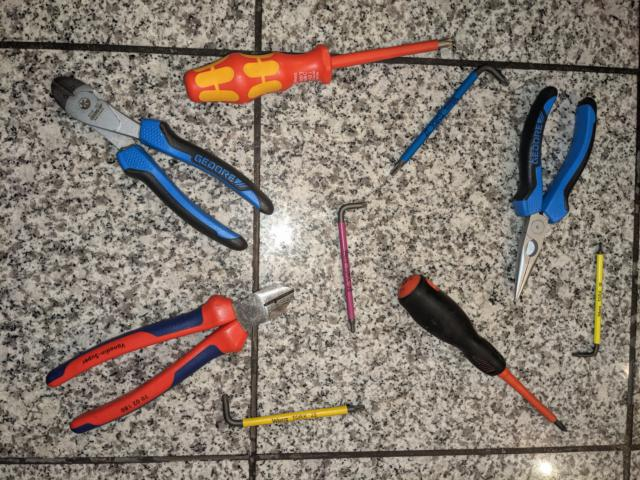Inbusschlüssel: (388, 63, 513, 179), (218, 391, 369, 431), (567, 238, 612, 361), (332, 200, 372, 336)
Schraubendreher: (395, 270, 571, 436), (182, 36, 458, 105)
Seitenschneider: (48, 70, 276, 257), (42, 280, 298, 438)
Zange: (506, 82, 602, 307)
